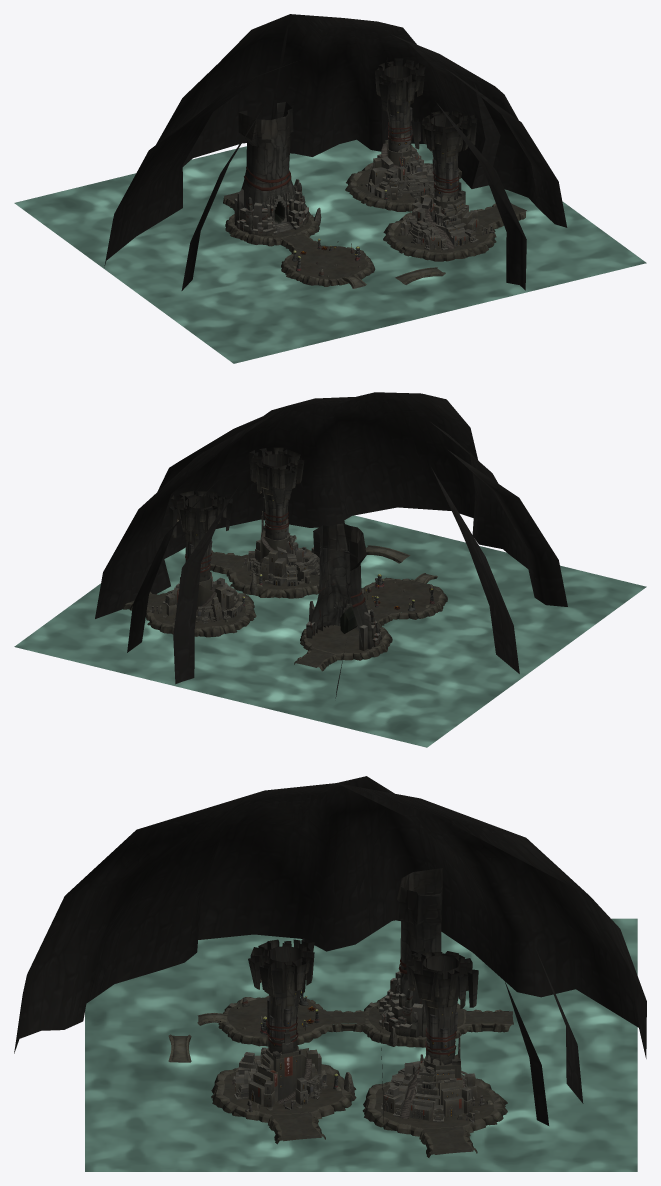
File: env_dath_nightsister_cavern_pre.glb
3 renders of one model, top to bottom at view 1: azimuth 30°, elevation 25°; view 2: azimuth 150°, elevation 25°; view 3: azimuth 270°, elevation 25°, orthographic. The views are drawn at different scales.
Visible parts, largest first — view 1: ground_plane_mesh, dath_fullwall_01_mesh, dath_cavedwelling_01a_mesh (×2), dath_cavedwelling_01b_mesh (×2), dath_island_01a_mesh (×3), dath_cavedwelling_02a_mesh, dath_island_01b_mesh (×2), dath_cavedwelling_02b_mesh, dath_island_01a_mesh (1), dath_island_01b_mesh (1); view 2: ground_plane_mesh, dath_fullwall_01_mesh, dath_cavedwelling_01a_mesh (×2), dath_cavedwelling_01b_mesh (×2), dath_island_01b_mesh (×3), dath_cavedwelling_02a_mesh, dath_island_01a_mesh (×3), dath_cavedwelling_02b_mesh, dath_island_01a_mesh (1), dath_island_01b_mesh (1); view 3: dath_fullwall_01_mesh, ground_plane_mesh, dath_cavedwelling_01a_mesh (×2), dath_cavedwelling_01b_mesh (×2), dath_island_01b_mesh (×3), dath_island_01a_mesh (×3), dath_cavedwelling_02a_mesh, dath_island_01b_mesh (1), dath_island_01a_mesh (1), dath_cavedwelling_02b_mesh, dath_island_01c_mesh (1).
Boxes of the visible parts, x1=… form: ground_plane_mesh: x1=14, y1=139, x2=646, y2=363; dath_fullwall_01_mesh: x1=104, y1=14, x2=567, y2=290; dath_cavedwelling_01a_mesh (×2): x1=375, y1=58, x2=477, y2=201; dath_cavedwelling_01b_mesh (×2): x1=365, y1=140, x2=494, y2=250; dath_island_01a_mesh (×3): x1=223, y1=196, x2=525, y2=286; dath_cavedwelling_02a_mesh: x1=238, y1=102, x2=293, y2=192; dath_island_01b_mesh (×2): x1=282, y1=203, x2=526, y2=279; dath_cavedwelling_02b_mesh: x1=234, y1=179, x2=308, y2=235; dath_island_01a_mesh (1): x1=345, y1=162, x2=461, y2=211; dath_island_01b_mesh (1): x1=355, y1=163, x2=460, y2=203; ground_plane_mesh: x1=14, y1=515, x2=646, y2=747; dath_fullwall_01_mesh: x1=95, y1=392, x2=567, y2=698; dath_cavedwelling_01a_mesh (×2): x1=168, y1=447, x2=304, y2=581; dath_cavedwelling_01b_mesh (×2): x1=150, y1=511, x2=319, y2=623; dath_island_01b_mesh (×3): x1=210, y1=552, x2=438, y2=667; dath_cavedwelling_02a_mesh: x1=313, y1=523, x2=366, y2=610; dath_island_01a_mesh (×3): x1=210, y1=547, x2=447, y2=671; dath_cavedwelling_02b_mesh: x1=306, y1=594, x2=381, y2=650; dath_island_01a_mesh (1): x1=123, y1=590, x2=256, y2=637; dath_island_01b_mesh (1): x1=129, y1=592, x2=247, y2=628; dath_fullwall_01_mesh: x1=14, y1=776, x2=646, y2=1125; ground_plane_mesh: x1=85, y1=918, x2=637, y2=1171; dath_cavedwelling_01a_mesh (×2): x1=248, y1=938, x2=478, y2=1065; dath_cavedwelling_01b_mesh (×2): x1=232, y1=1029, x2=484, y2=1123; dath_island_01b_mesh (×3): x1=223, y1=997, x2=513, y2=1141; dath_island_01a_mesh (×3): x1=211, y1=995, x2=512, y2=1144; dath_cavedwelling_02a_mesh: x1=396, y1=868, x2=442, y2=981; dath_island_01b_mesh (1): x1=374, y1=1085, x2=494, y2=1154; dath_island_01a_mesh (1): x1=362, y1=1074, x2=507, y2=1157; dath_cavedwelling_02b_mesh: x1=379, y1=971, x2=426, y2=1037; dath_island_01c_mesh (1): x1=168, y1=1034, x2=191, y2=1062.
Size of the model in its own units: 215 by 102 by 227.
Materials: 13 (13 with a texture image).
